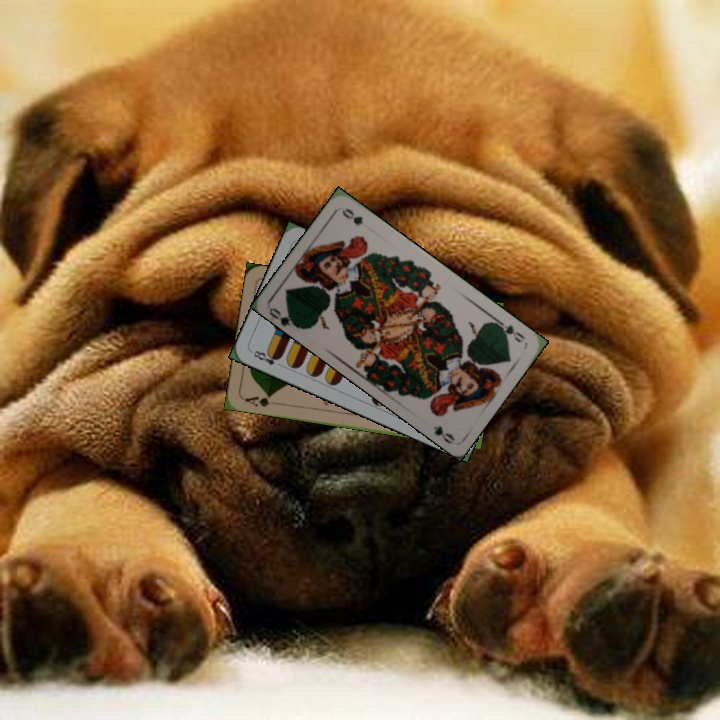E8: (247, 346, 285, 370)
GA: (241, 391, 281, 409)
GO: (492, 316, 528, 345), (266, 303, 303, 331)
